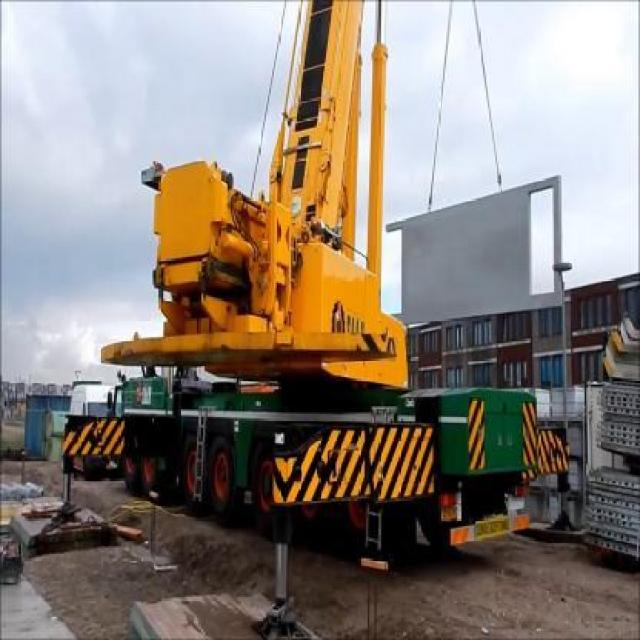Mobile Crane: (62, 0, 576, 631)
